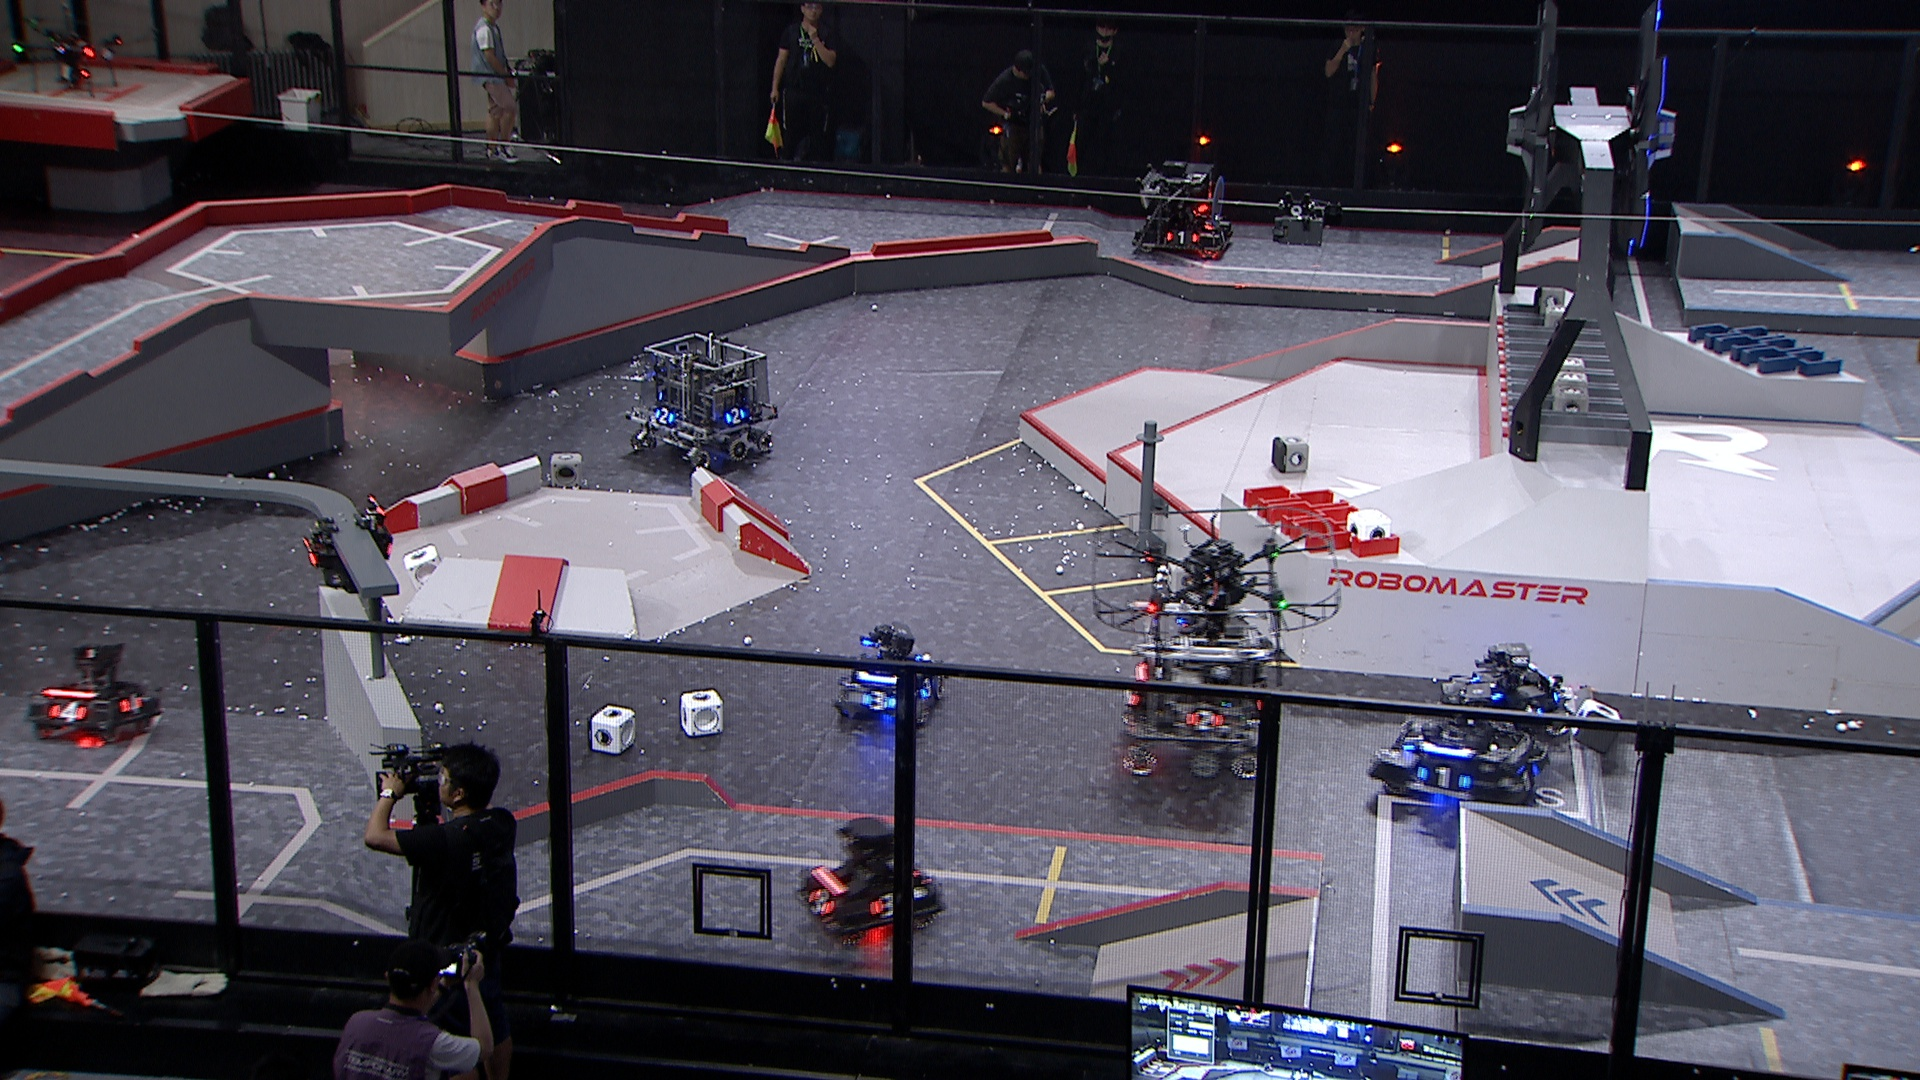armor: (1414, 765, 1476, 789), (49, 699, 87, 727), (1185, 709, 1228, 735), (1509, 764, 1542, 793), (804, 887, 835, 918), (858, 690, 895, 713), (868, 891, 897, 918), (1163, 228, 1203, 247), (1400, 727, 1428, 752), (116, 690, 145, 713), (301, 535, 318, 570), (727, 405, 746, 427), (654, 407, 675, 427), (920, 673, 935, 700), (1212, 228, 1232, 244)
car: (1117, 597, 1280, 779), (1371, 680, 1552, 815), (624, 330, 783, 475), (795, 814, 945, 948), (25, 637, 164, 746), (1437, 638, 1575, 744), (839, 621, 945, 728), (1133, 157, 1234, 262)
watcher: (299, 493, 398, 597)
